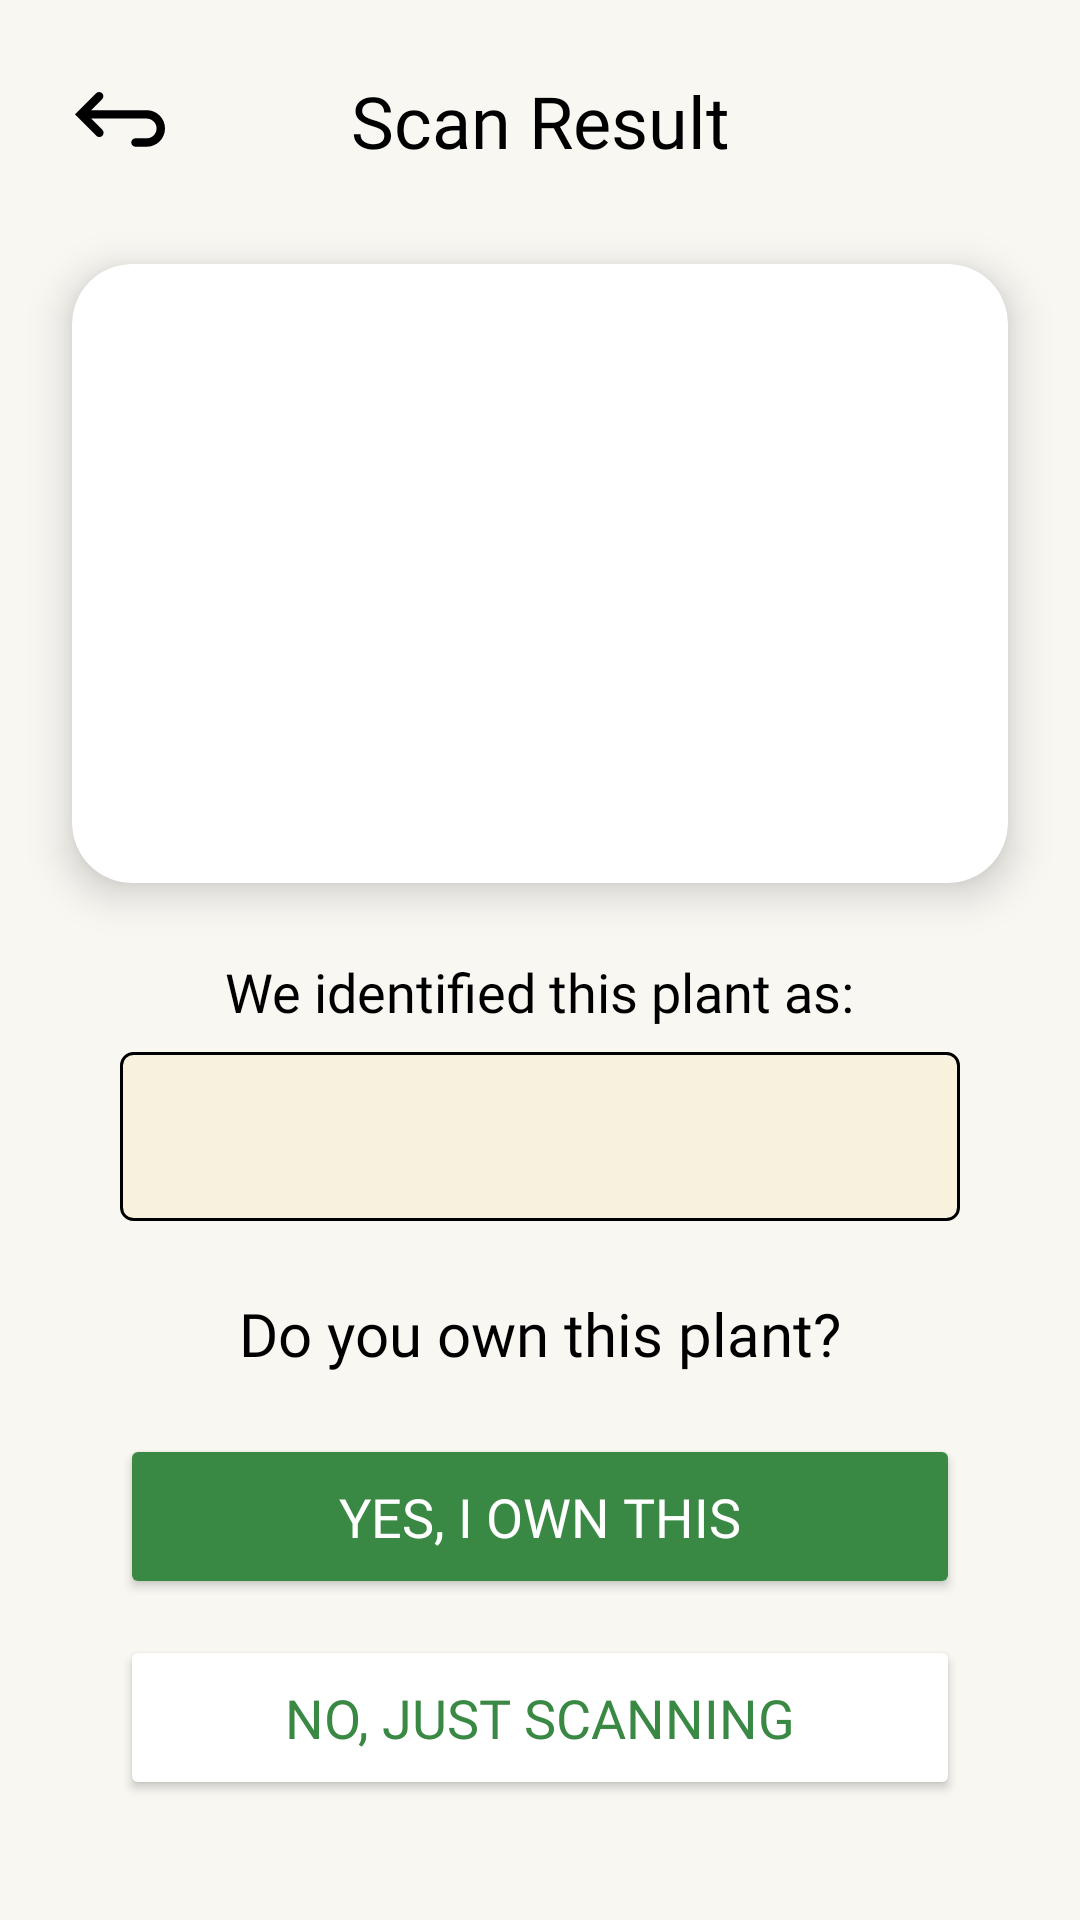

Icons on this 1080x1920 Android screen, each with its box as (x1, y1, x2, y2):
back: (75, 92, 165, 147)
